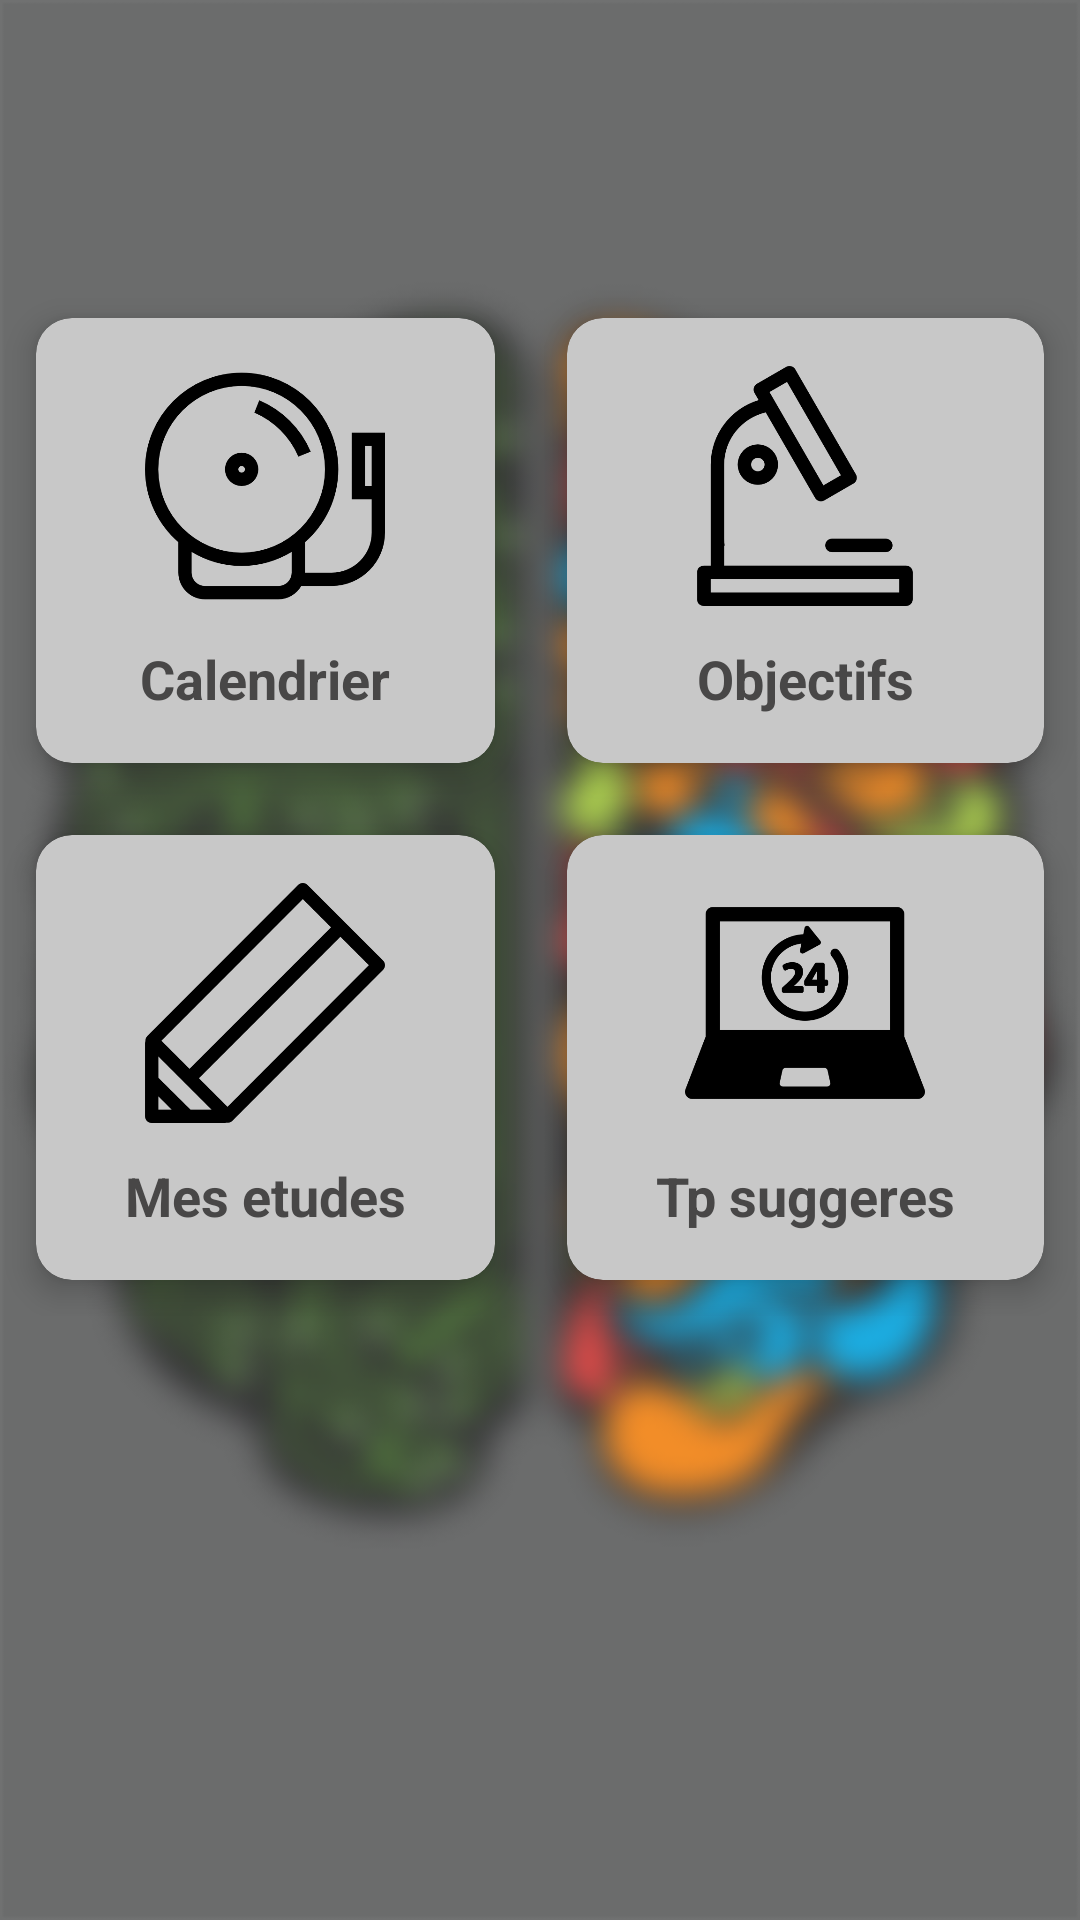

Icon bounding boxes for this 1080w x 1920h phone screenshot, format (x1, y1, x2, y2):
bell: (145, 372, 385, 600)
laptop: (685, 907, 925, 1099)
microscope: (697, 366, 913, 606)
pencil: (145, 883, 385, 1123)
